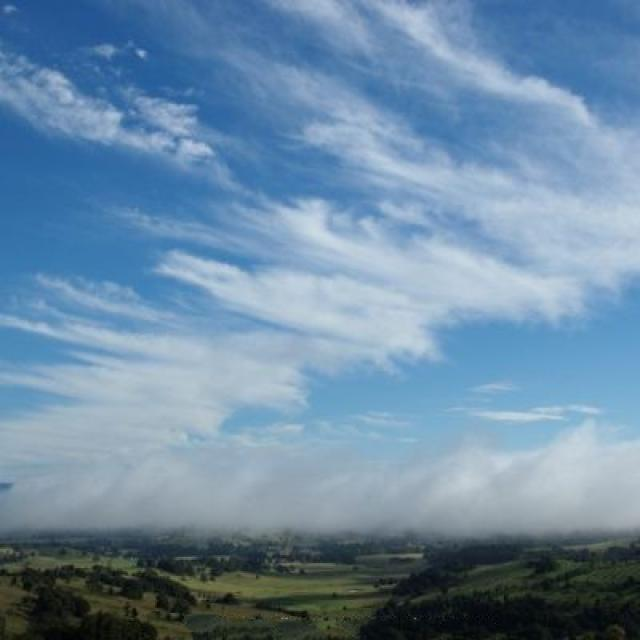As: (1, 76, 640, 452)
